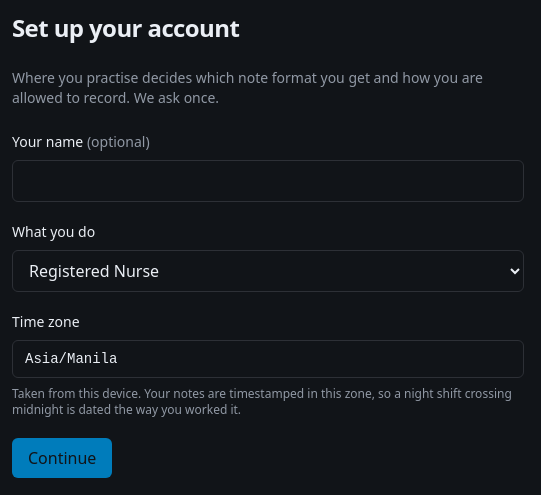
Test: Onboarding › reports the Philippine regime the server derived, and what it costs
The image size is (541, 495).
Step 1. Select "Registered Nurse" in the dropdown labelled "What you do" → (268, 271), box [12,250,524,292]
Step 2. Click the button "Continue" → (62, 458), box [12,438,112,478]
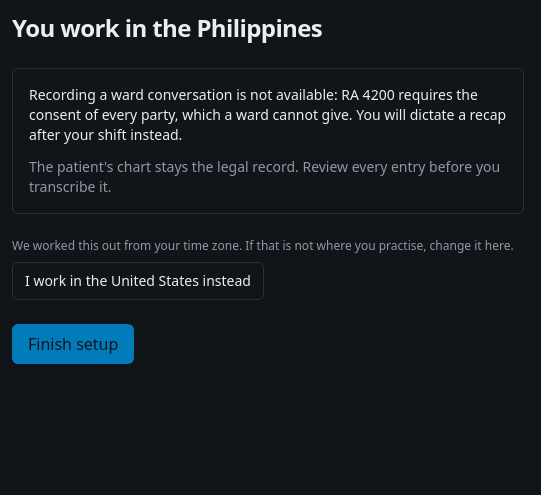
Check: the heading "You work in the Philippines" is shown, box [12,11,322,44]
Check: the text "RA 4200" is shown, box [29,85,506,144]
